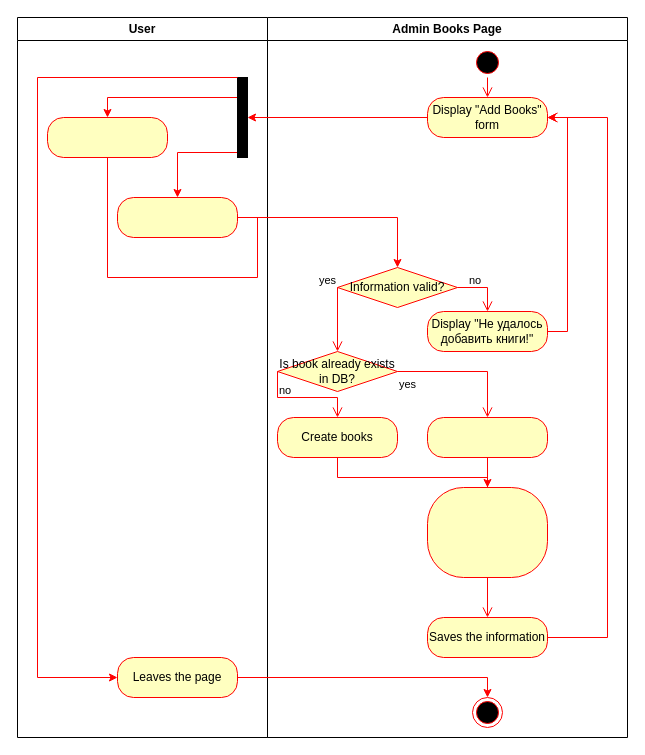
The diagram is 645 pixels wide and 755 high, and some of its shapes have lost their labels. The box of each missing label's shape, as (x1, y1, x2, y2) in pixels:
Add amount of books to already existing ones: (426, 416, 548, 458)
Display "Книги успешно добавлены!": (426, 486, 548, 578)
Fills the form: (46, 116, 168, 158)
Upload an XML file: (116, 196, 238, 238)
